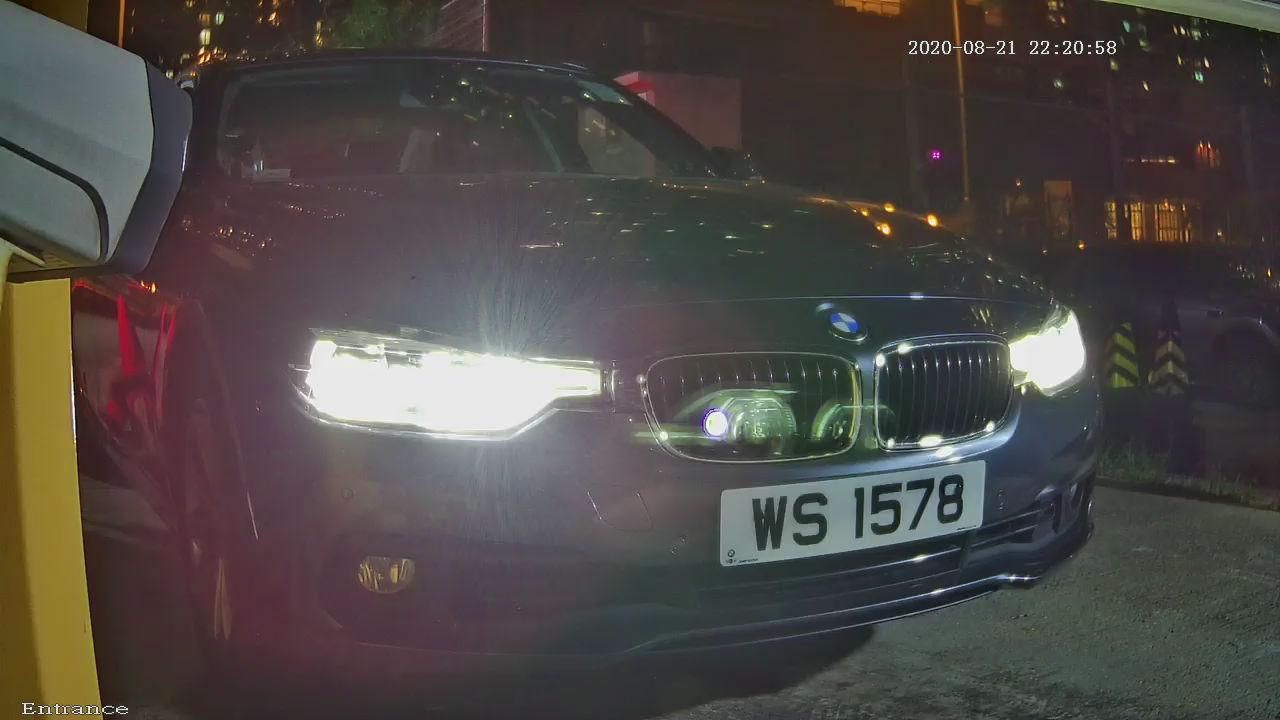Car: (29, 20, 1206, 704)
License Plate: (666, 433, 1037, 600)
